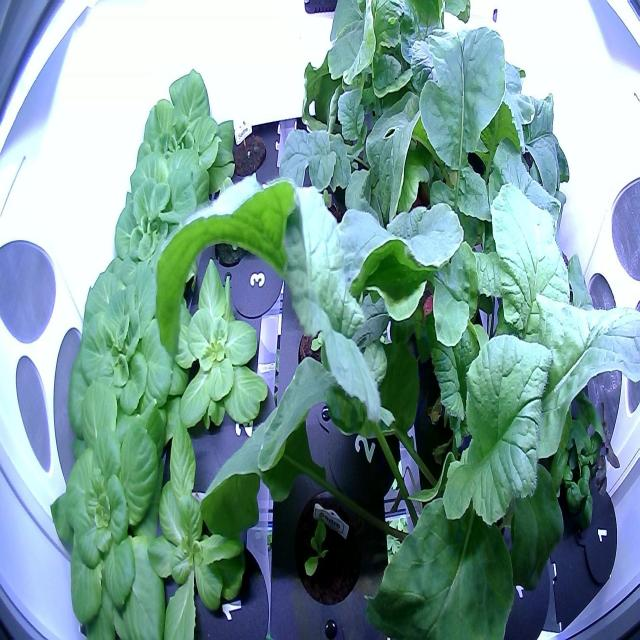pod: (223, 122, 270, 183)
young: (46, 380, 182, 640), (146, 410, 269, 640), (57, 249, 193, 456), (162, 251, 281, 437), (120, 64, 241, 205), (98, 149, 210, 290), (290, 478, 366, 612)
